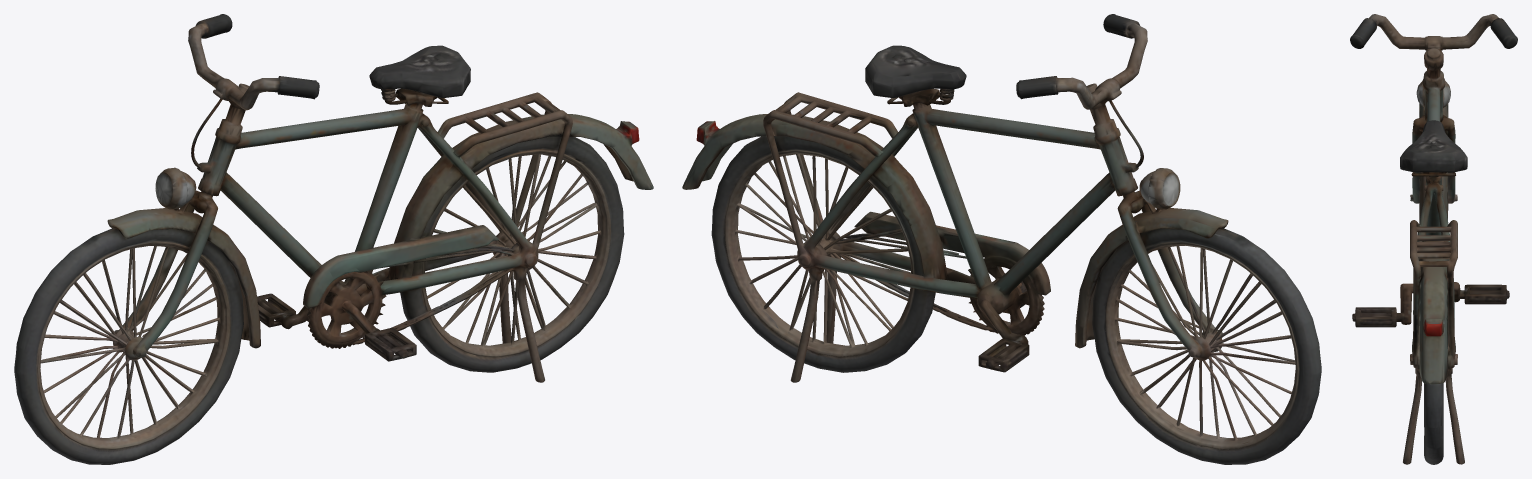
The model's file is prop_bicycle.glb.
3 renders of one model, left to right at view 1: azimuth 30°, elevation 25°; view 2: azimuth 150°, elevation 25°; view 3: azimuth 270°, elevation 25°, orthographic. The views are drawn at different scales.
Visible parts, largest first — view 1: node_0; view 2: node_0; view 3: node_0.
Part boxes in pixels (x1,y1,x2,y2): node_0: (14, 14, 653, 464); node_0: (682, 14, 1321, 464); node_0: (1350, 14, 1517, 464).
Bounding box in the file's own units: 1.16 × 0.6798 × 0.3144.
Materials: 1 (1 with a texture image).
